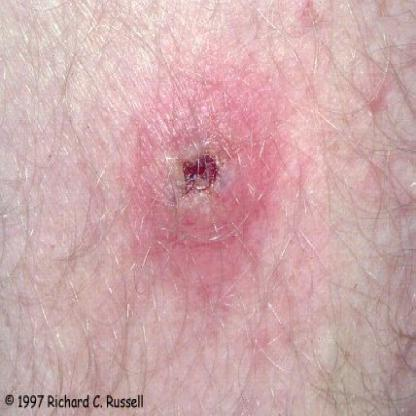Tick: (116, 56, 288, 297)
